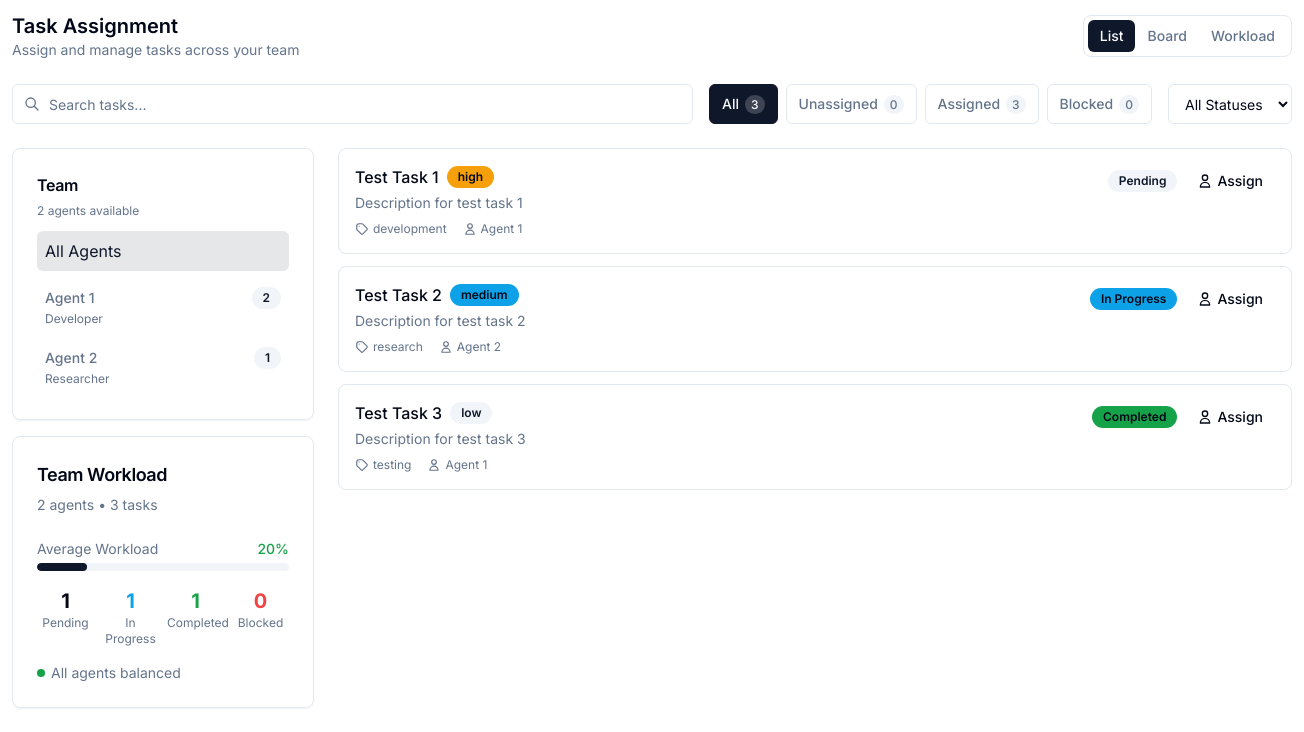
Test case: TaskAssignmentPanel › filters tasks by search query
The image size is (1304, 732).
Type "Test Task 1" into the search field with placeholder "Search tasks...". click: (352, 104)
box: [12,84,693,124]
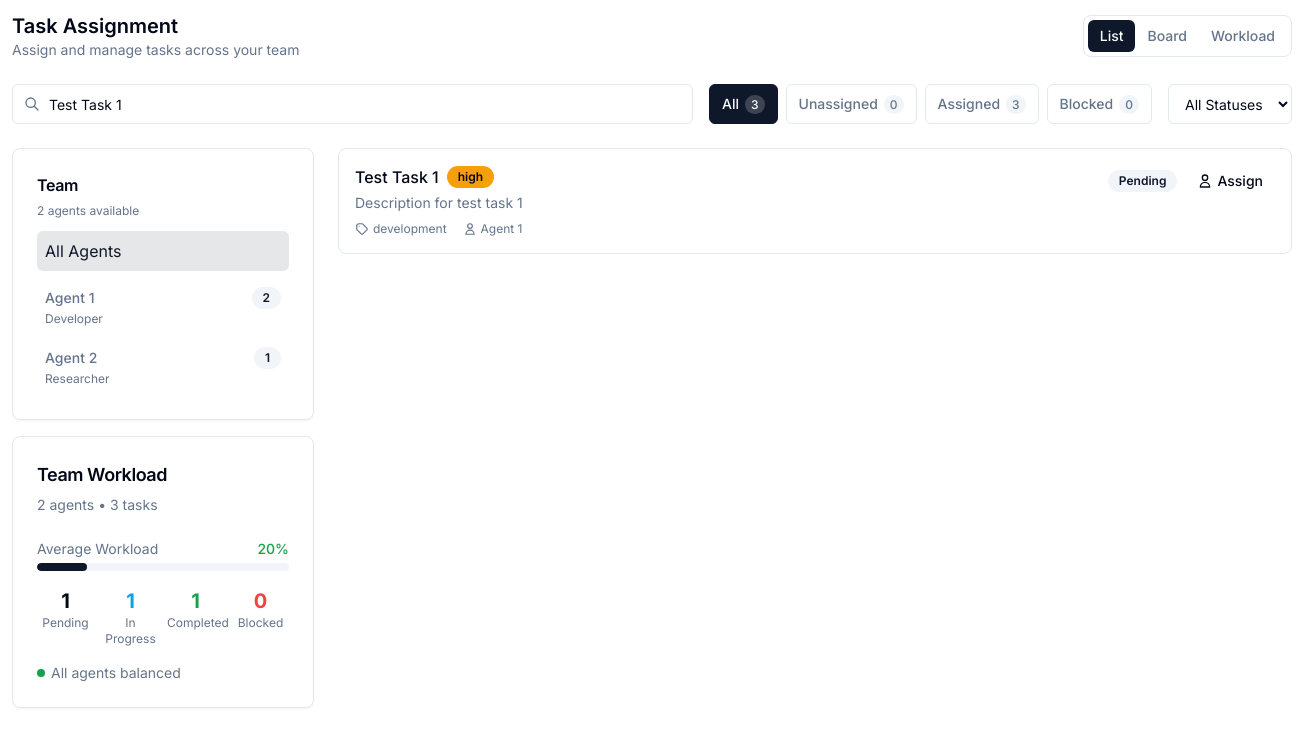
Expected: the heading "Test Task 1" is shown, [355,165,439,189]
Now the heading "Test Task 2" is gone
